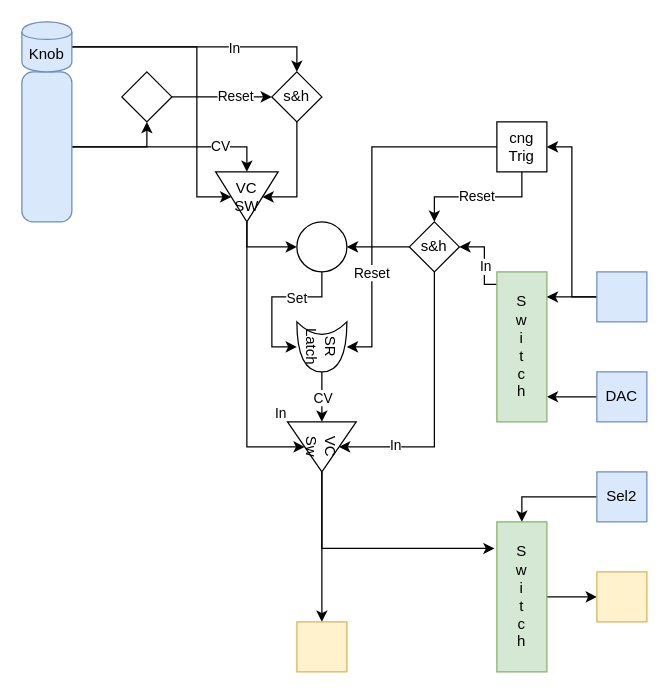
This 669x694 diagram has some shape labels left out. The shapes that lost their labels are listed below. From the top down, each one's centre as x and y in pixels, then its label:
pixel 146 96: INV
pixel 46 146: L a y e r o n
pixel 321 246: comp
pixel 621 296: Sel1
pixel 621 596: ADC
pixel 321 646: Out
